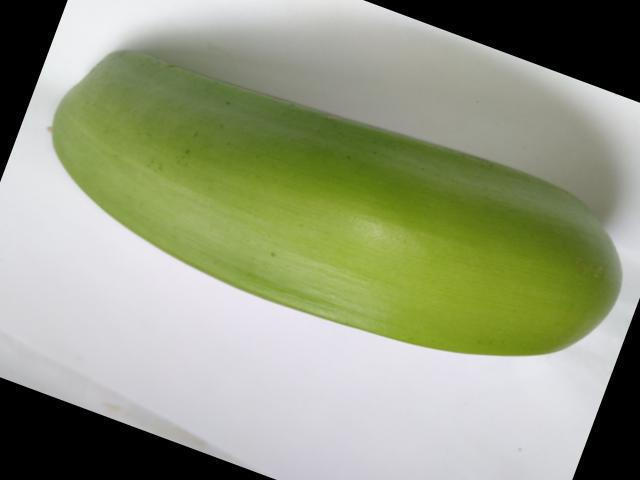freshunripe: (34, 32, 638, 388)
